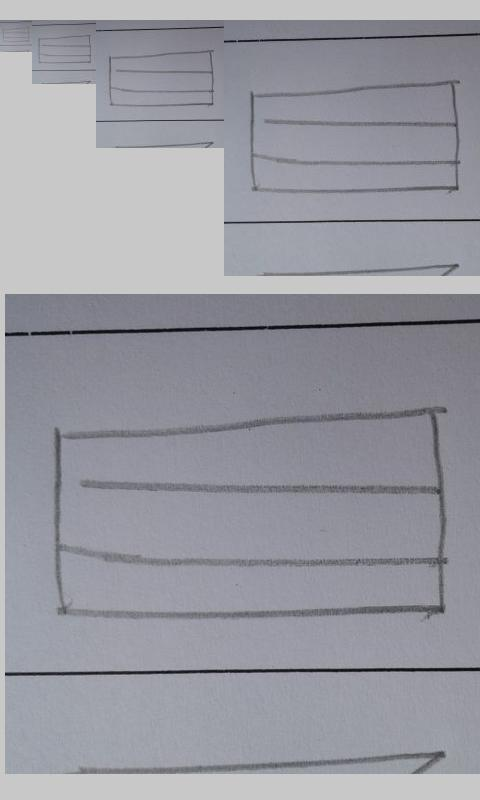list_view: (49, 405, 447, 622), (248, 80, 463, 196), (108, 48, 216, 108), (37, 34, 92, 64), (2, 26, 31, 43)
